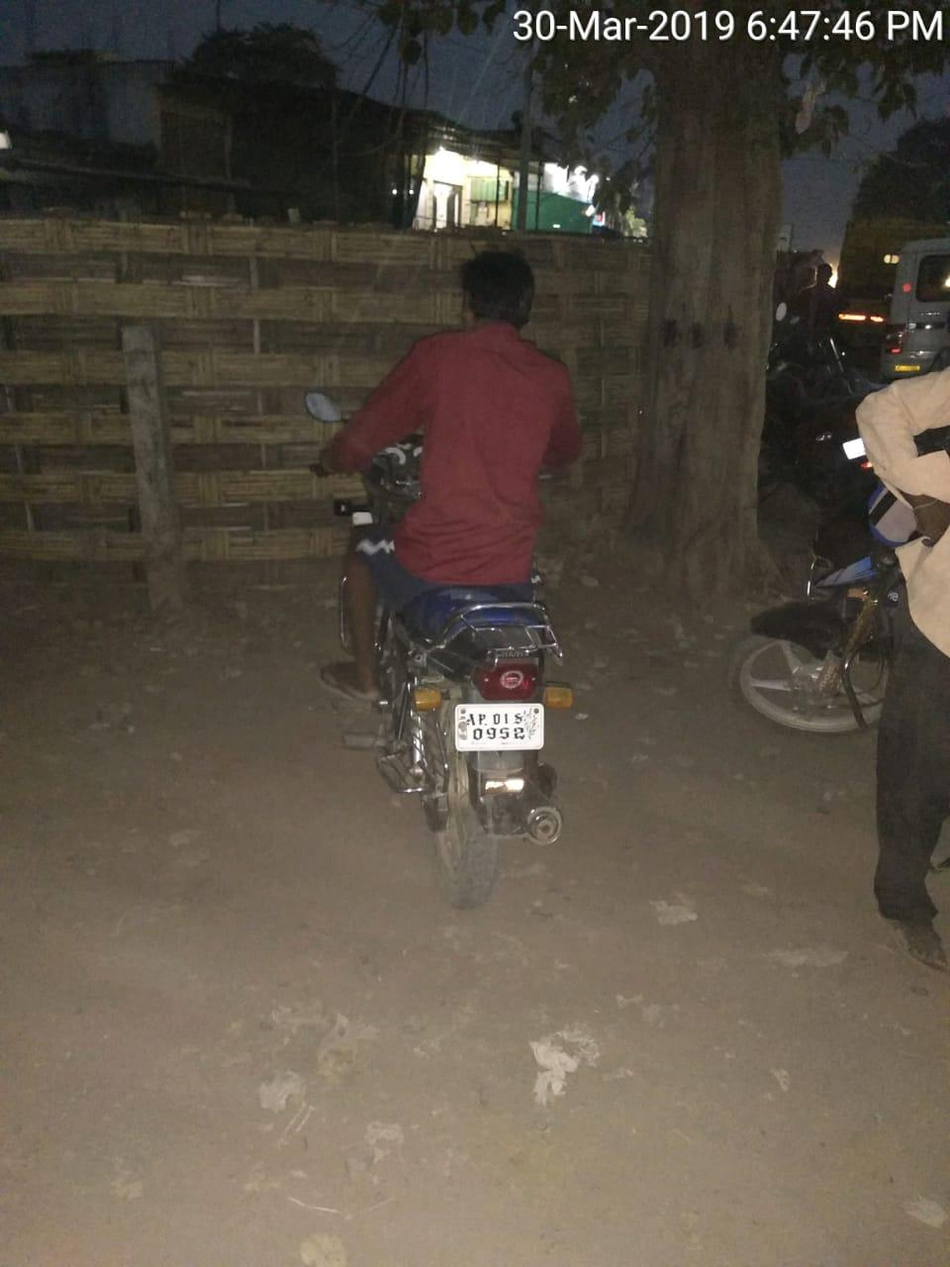plate: (437, 693, 566, 767)
